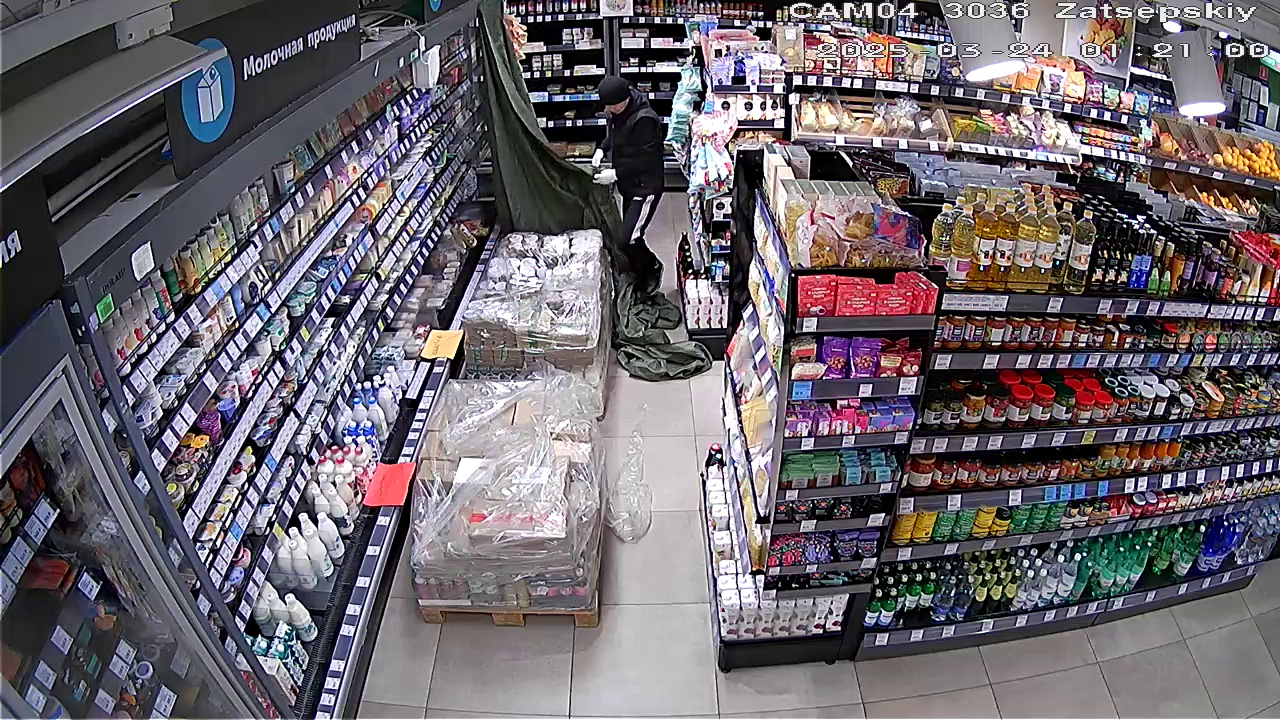Human: (583, 74, 667, 288)
pallet: (411, 375, 608, 623), (466, 221, 611, 394)
